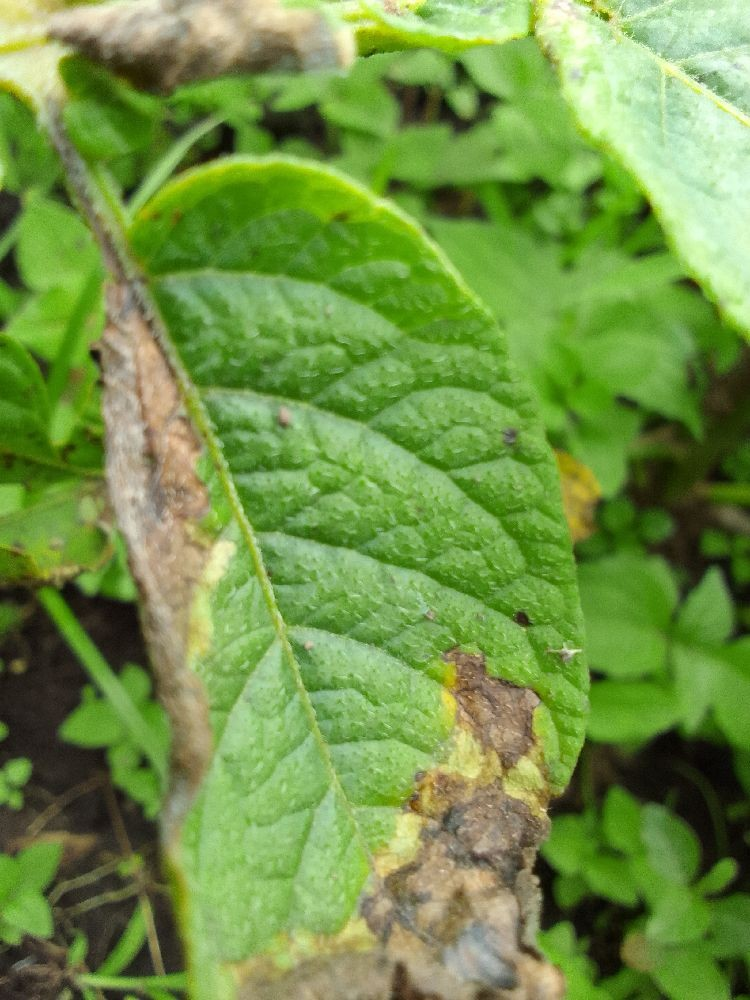late_blight: (217, 631, 593, 999), (0, 0, 353, 131), (602, 402, 750, 620)
